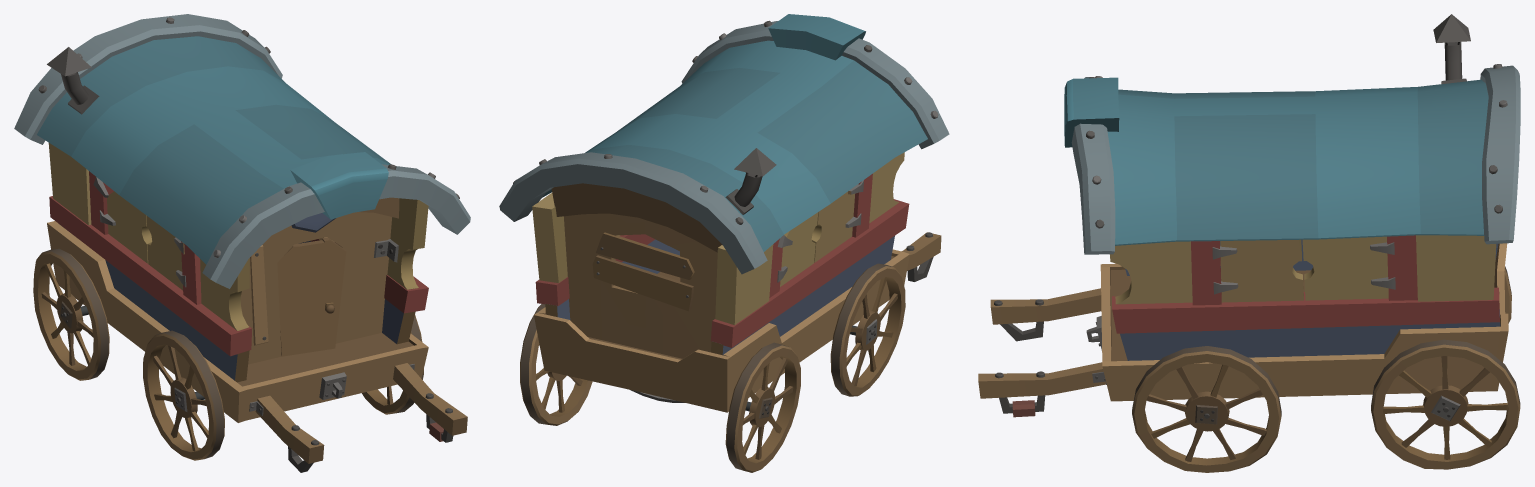
The model's file is 1_caravan_cart.fbx.
3 renders of one model, left to right at view 1: azimuth 30°, elevation 25°; view 2: azimuth 150°, elevation 25°; view 3: azimuth 270°, elevation 25°, orthographic. The views are drawn at different scales.
Visible parts, largest first — view 1: polySurface29, polySurface56, polySurface60, group4, pCube30, polySurface16, polySurface61, polySurface21, group9_polySurface92, polySurface20, polySurface58, polySurface5 (+14 smaller); view 2: polySurface29, polySurface57, polySurface61, polySurface15, group9_polySurface92, polySurface16, group4, polySurface9, polySurface21, polySurface60, polySurface32, polySurface10 (+12 smaller); view 3: polySurface29, polySurface21, polySurface16, group4, polySurface10, group9_polySurface92, polySurface61, polySurface9, polySurface19, polySurface18, polySurface60, polySurface5 (+11 smaller).
Part boxes in pixels (x1,y1,x2,y2): polySurface29: [37, 36, 390, 264]; polySurface56: [240, 212, 391, 364]; polySurface60: [202, 164, 470, 288]; group4: [143, 315, 423, 460]; pCube30: [277, 237, 346, 356]; polySurface16: [49, 196, 428, 356]; polySurface61: [14, 14, 282, 144]; polySurface21: [50, 223, 428, 422]; group9_polySurface92: [33, 248, 109, 380]; polySurface20: [243, 345, 421, 420]; polySurface58: [290, 152, 388, 219]; polySurface5: [200, 198, 428, 330]; polySurface29: [542, 40, 927, 251]; polySurface57: [564, 213, 717, 358]; polySurface61: [499, 152, 767, 274]; polySurface15: [534, 312, 730, 412]; group9_polySurface92: [520, 304, 800, 472]; polySurface16: [535, 199, 909, 347]; group4: [830, 263, 905, 396]; polySurface9: [532, 192, 773, 325]; polySurface21: [537, 252, 909, 402]; polySurface60: [681, 21, 949, 149]; polySurface32: [551, 183, 722, 252]; polySurface10: [545, 236, 894, 355]; polySurface29: [1107, 79, 1488, 245]; polySurface21: [1100, 263, 1500, 401]; polySurface16: [1112, 287, 1499, 333]; group4: [1132, 346, 1281, 472]; polySurface10: [1120, 239, 1500, 360]; group9_polySurface92: [1371, 266, 1520, 469]; polySurface61: [1480, 65, 1520, 244]; polySurface9: [1416, 235, 1496, 301]; polySurface19: [1302, 236, 1388, 300]; polySurface18: [1220, 239, 1303, 302]; polySurface60: [1071, 77, 1115, 254]; polySurface5: [1110, 241, 1192, 304].
Bounding box in the file's own units: 5.33 × 8.8 × 6.31.
